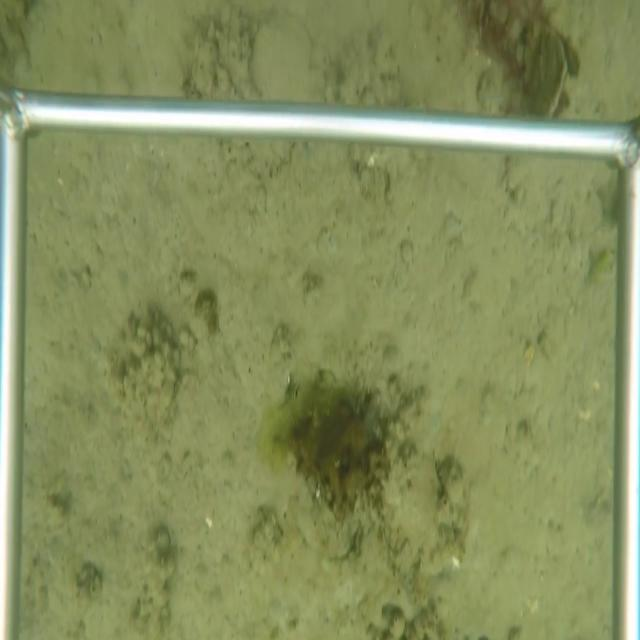Oyster-Indeterminate: (248, 20, 328, 102), (125, 340, 183, 428), (524, 25, 570, 120)
